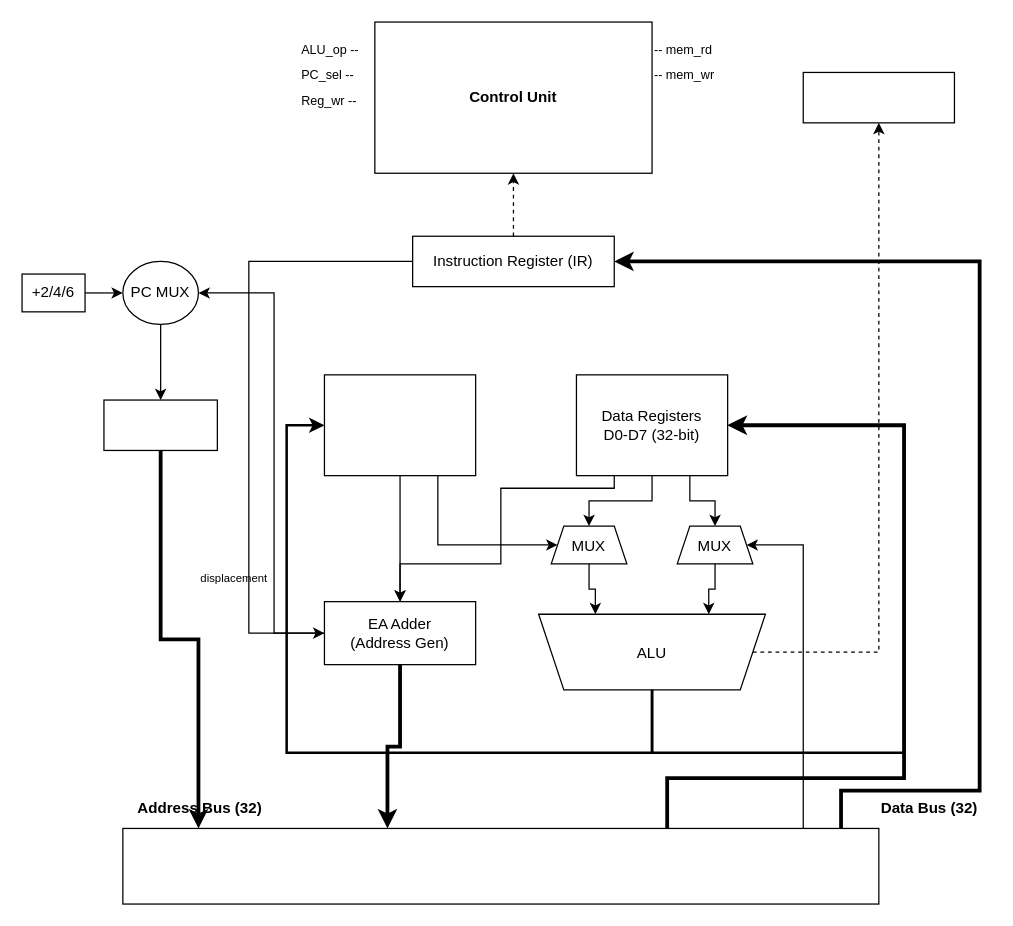
The diagram is 1013 pixels wide and 926 high, and some of its shapes have lost their labels. The centre of each missing label's shape, as x and y in pixels:
Address Registers A0-A7 (32-bit): [399,425]
Memory & I/O: [500,865]
PC (32-bit): [160,424]
Status Register (SR) [N Z V C]: [878,97]
